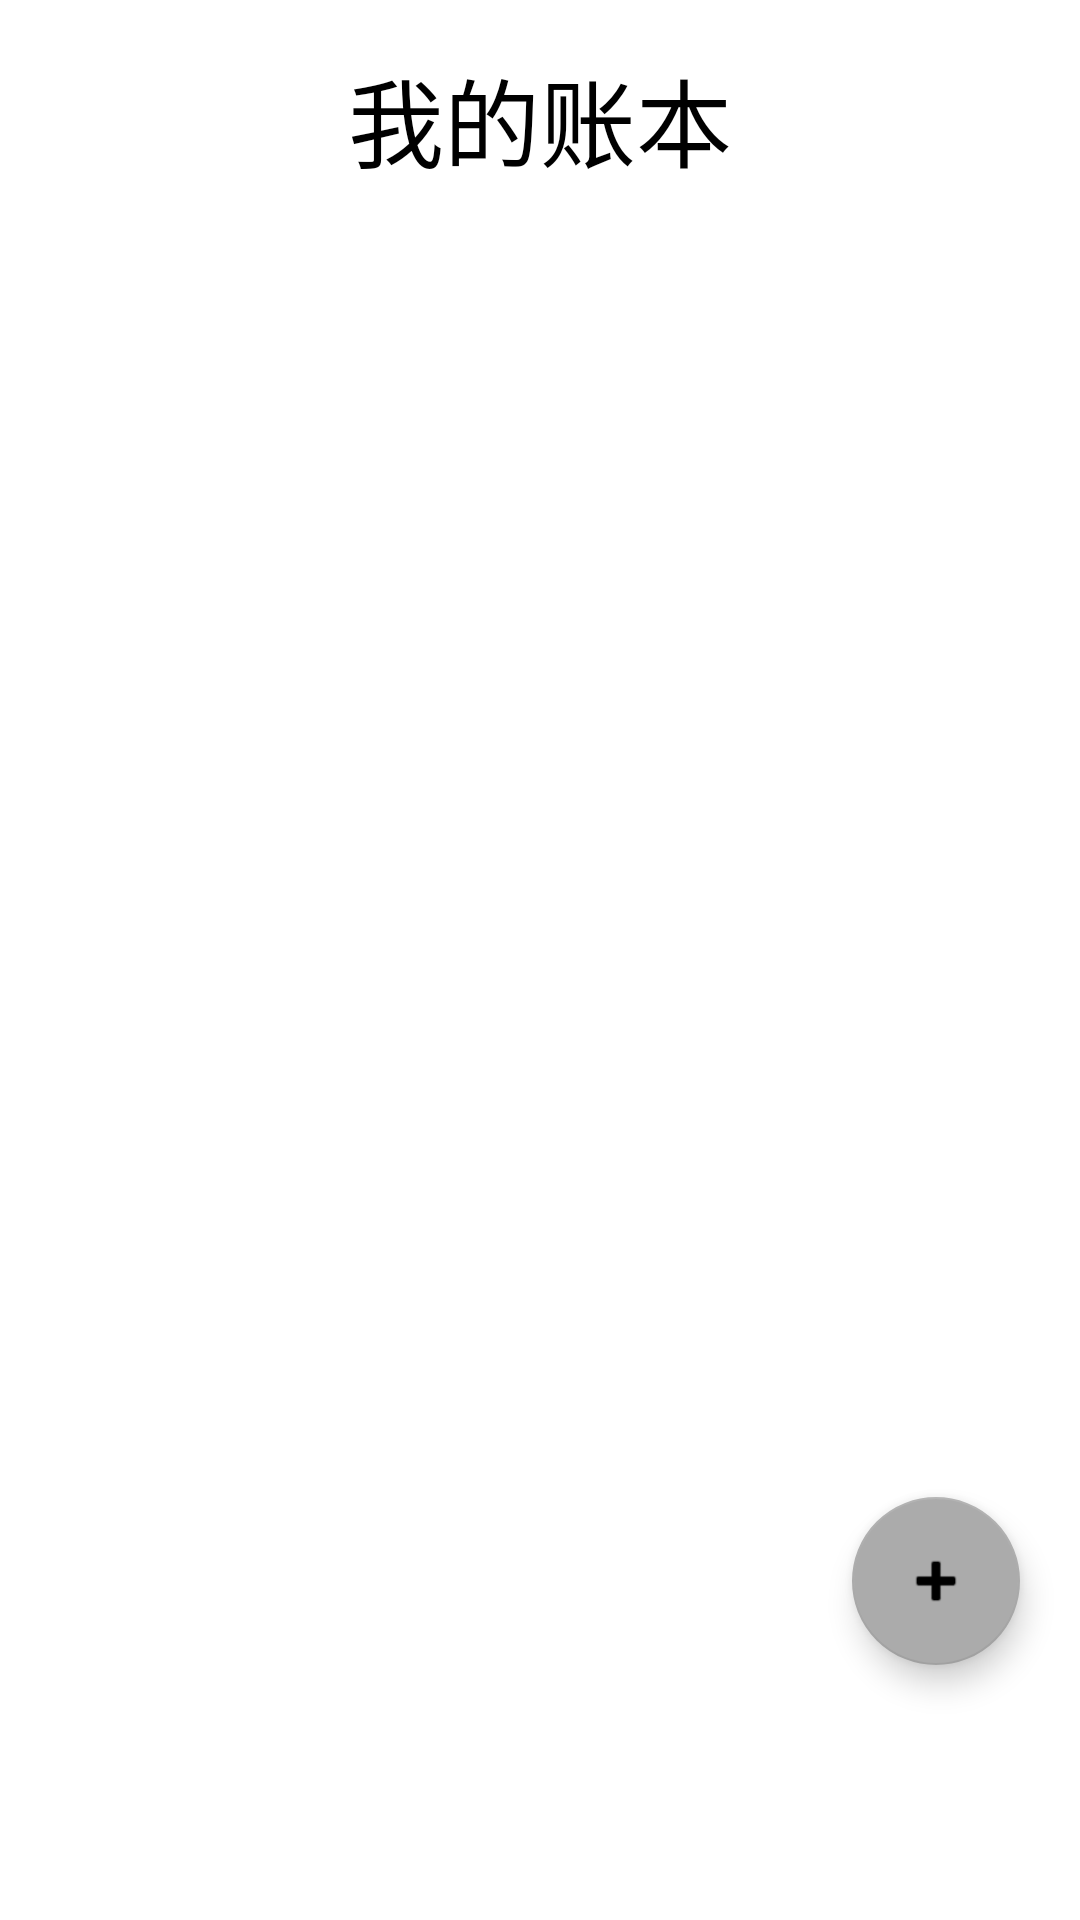

Locate icon controls on the screen. Image size 1080*1920, boxes as (x1, y1, x2, y2).
add: (852, 1497, 1020, 1665)
